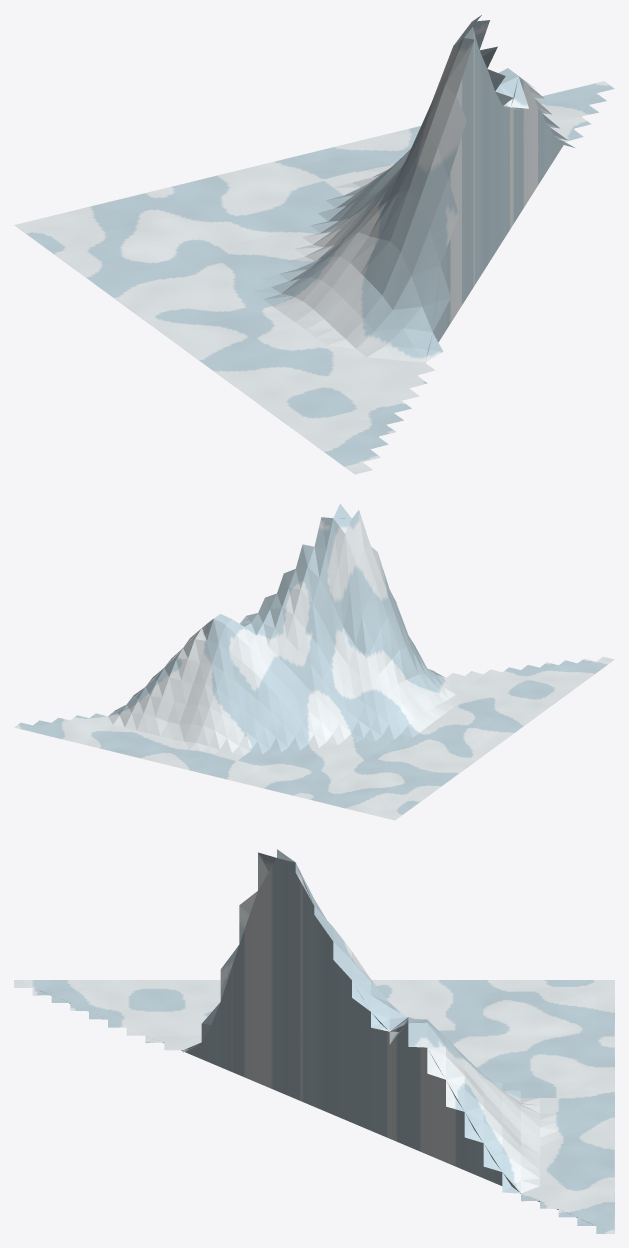
The model's file is Snow_Mountains_08_SW.obj.
3 views of the same model, one above another, from view 1: azimuth 30°, elevation 25°; view 2: azimuth 150°, elevation 25°; view 3: azimuth 270°, elevation 25° (orthographic). The views are drawn at different scales.
Bounding box in the file's own units: 10 × 4.59 × 10.
1 material, 1 textured.
